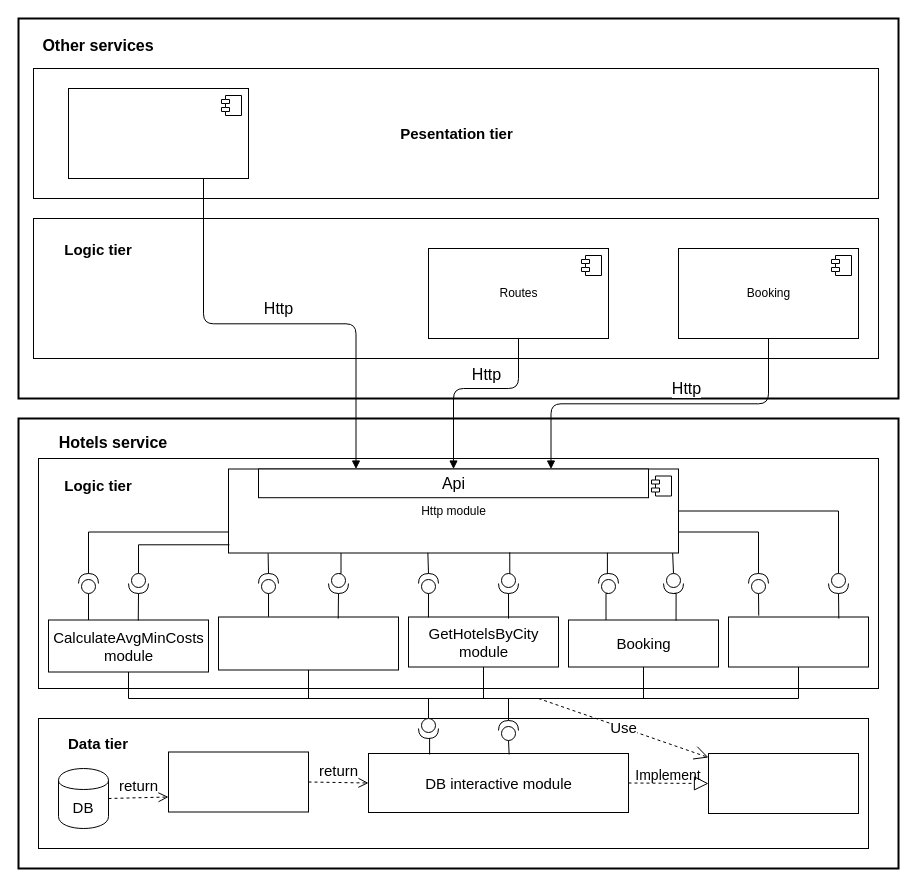
Some shapes in this 916 by 886 pixel diagram are drawn without their labels. Here are the shapes that lost their labels. From the top down, the centre of each, then its label:
At pixel 158 133: "Site".
At pixel 308 643: "GetHotelsByDateCityStars module".
At pixel 798 641: "Buyout".
At pixel 238 781: "<<extracted data>> Response".
At pixel 783 783: "<<trait>> DB interactive module".
